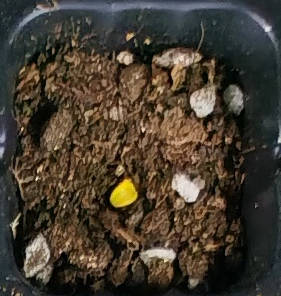pepper seed: (38, 74, 178, 282)
